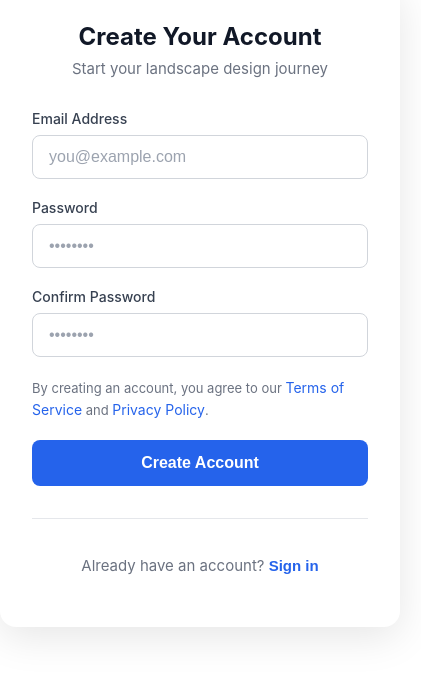
Test: Password Strength Indicator › should show strong strength for complex password
Type "ComplexP@ss123!" into the password field labelled "Password".
click(200, 246); type("ComplexP@ss123!")  # box [32, 224, 368, 268]
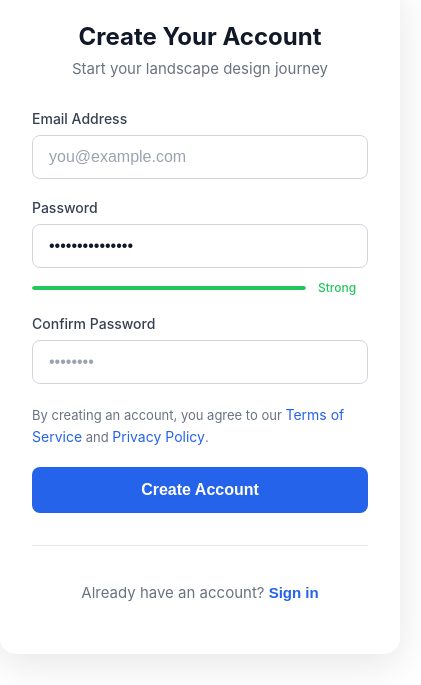
Check: the text "Strong" is shown, box [318, 280, 356, 295]
